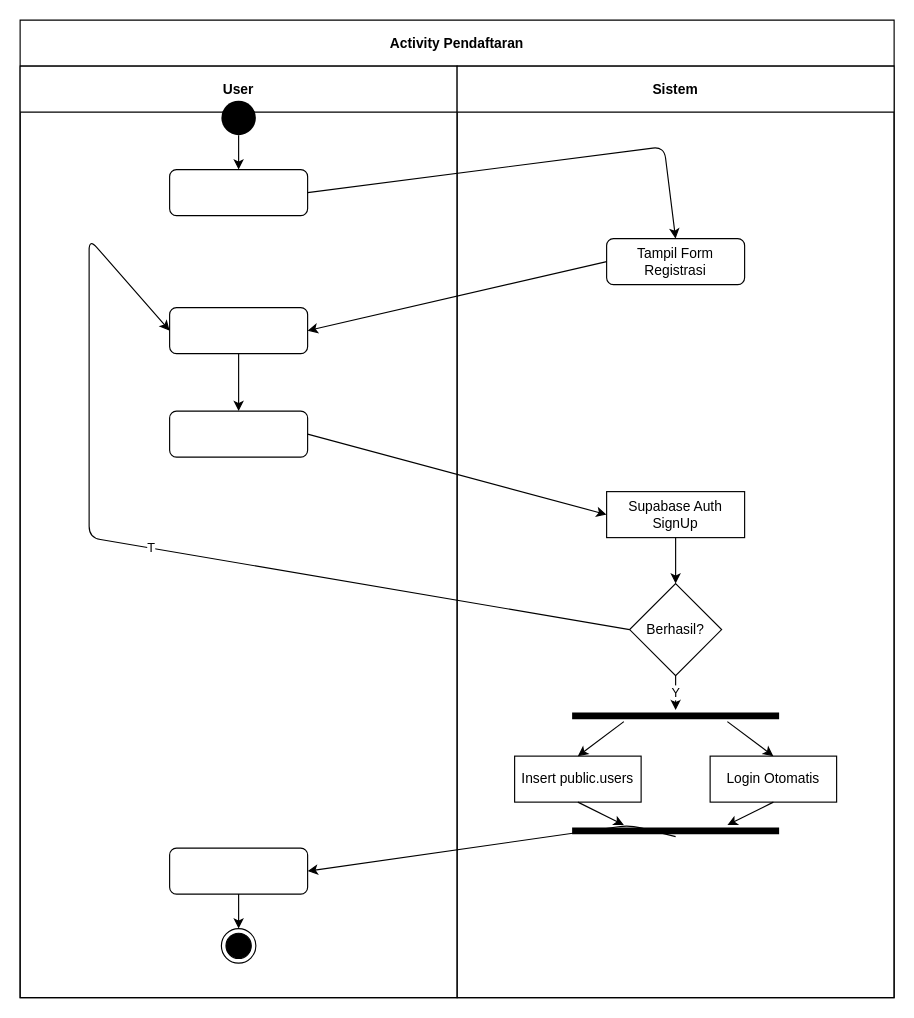
Image size: 914x1018. Some labels were removed from this diagram. Each missing label, with the centre of its shape:
Input Nama, Email, Password: the point at 238,330
Klik 'Daftar Sekarang': the point at 238,192
Klik Tombol Daftar: the point at 238,433
Masuk ke Halaman Utama: the point at 238,870
